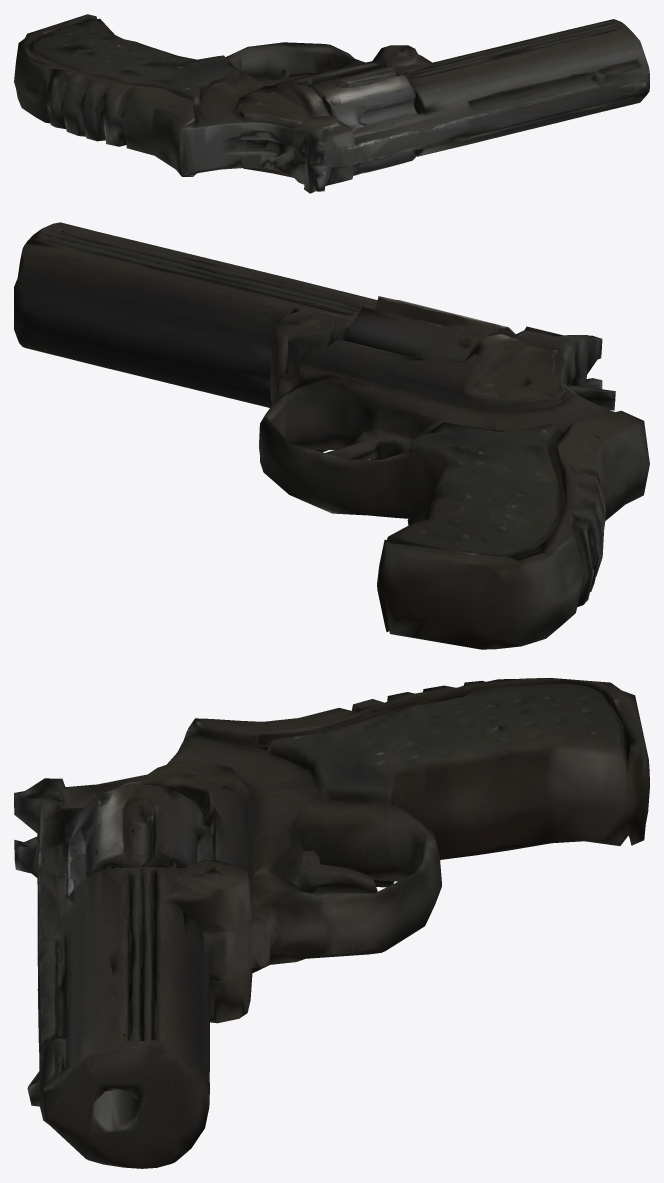
File: pistola.glb
The picture shows the model from 3 angles, top to bottom: view 1: azimuth 30°, elevation 25°; view 2: azimuth 150°, elevation 25°; view 3: azimuth 270°, elevation 25°; orthographic projection. The views are drawn at different scales.
Visible parts, largest first — view 1: tripo_node_8f377751; view 2: tripo_node_8f377751; view 3: tripo_node_8f377751.
Part boxes in pixels (left/top/right/bottom): tripo_node_8f377751: left=14, top=14, right=649, bottom=193; tripo_node_8f377751: left=14, top=222, right=649, bottom=649; tripo_node_8f377751: left=14, top=678, right=649, bottom=1168.
Bounding box in the file's own units: 97.86 × 17.74 × 66.86.
Materials: 1 (1 with a texture image).
